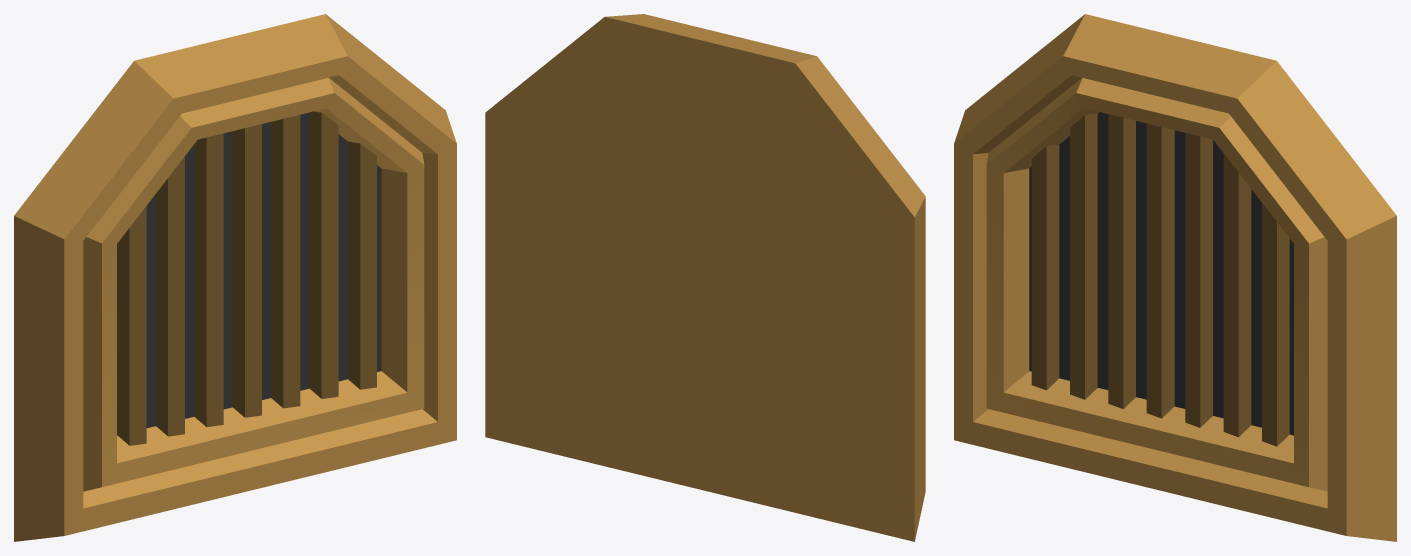
File: Details_Vent_2.gltf
The picture shows the model from 3 angles, left to right: view 1: azimuth 30°, elevation 25°; view 2: azimuth 150°, elevation 25°; view 3: azimuth 330°, elevation 25°; orthographic projection.
Visible parts, largest first — view 1: Details_Vent_2; view 2: Details_Vent_2; view 3: Details_Vent_2.
Part boxes in pixels (<box>): Details_Vent_2: <box>14,14,456,541</box>; Details_Vent_2: <box>485,14,925,541</box>; Details_Vent_2: <box>954,14,1396,541</box>.
Size of the model in its own units: 0.3099 by 0.3099 by 0.0413.
